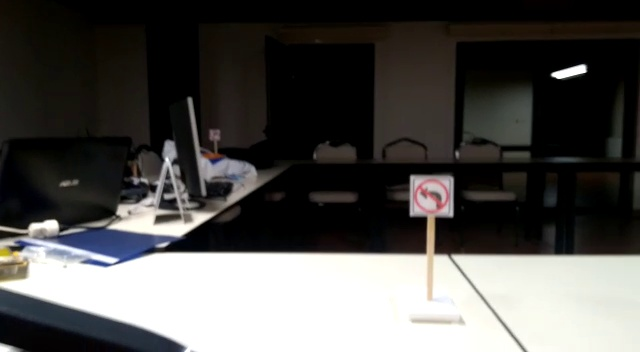sola_donulmez: (413, 181, 449, 217)
